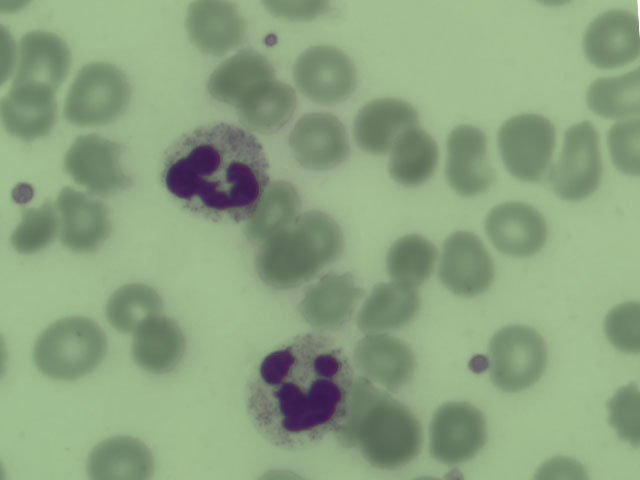Platelets: (7, 178, 39, 209), (464, 348, 491, 378), (259, 29, 283, 51)
RBC: (556, 120, 607, 204), (440, 126, 495, 195), (487, 202, 547, 258), (429, 401, 489, 457), (434, 235, 494, 291), (491, 330, 551, 386), (496, 116, 556, 172), (354, 331, 414, 387), (364, 274, 424, 330), (298, 270, 358, 326), (384, 229, 444, 285), (384, 130, 444, 186), (353, 91, 413, 147), (289, 111, 349, 167), (298, 45, 358, 101), (234, 76, 294, 132), (207, 48, 267, 104), (362, 405, 422, 461), (129, 318, 189, 374), (39, 321, 99, 377), (57, 192, 117, 248), (66, 132, 126, 188), (68, 64, 128, 120), (11, 32, 71, 88), (580, 64, 640, 120), (580, 10, 640, 66), (1, 86, 60, 142), (182, 1, 242, 56), (106, 281, 164, 331), (90, 434, 151, 480), (298, 208, 350, 261), (257, 243, 313, 291), (253, 182, 300, 237), (605, 112, 640, 180), (608, 375, 640, 448), (6, 206, 52, 256), (604, 294, 640, 357), (525, 451, 592, 480)
WBC: (249, 332, 352, 445), (162, 124, 270, 224)
